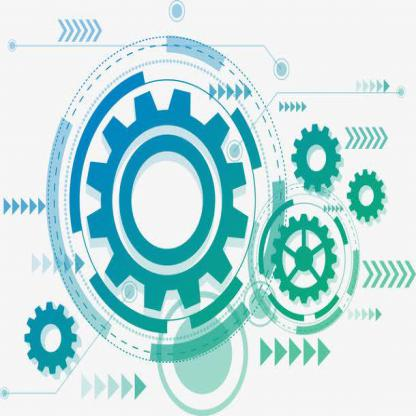FOD: (23, 298, 80, 380), (288, 118, 346, 197), (346, 165, 387, 227)
